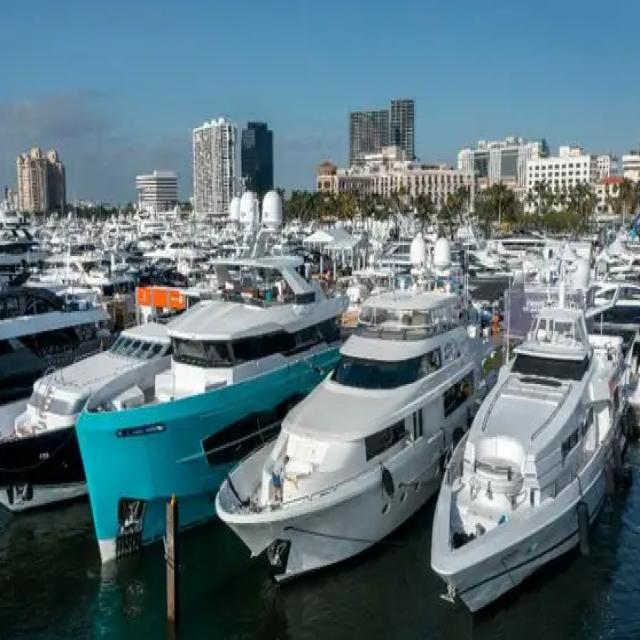houseboat: (67, 272, 360, 594), (227, 271, 464, 602), (435, 284, 633, 624)
